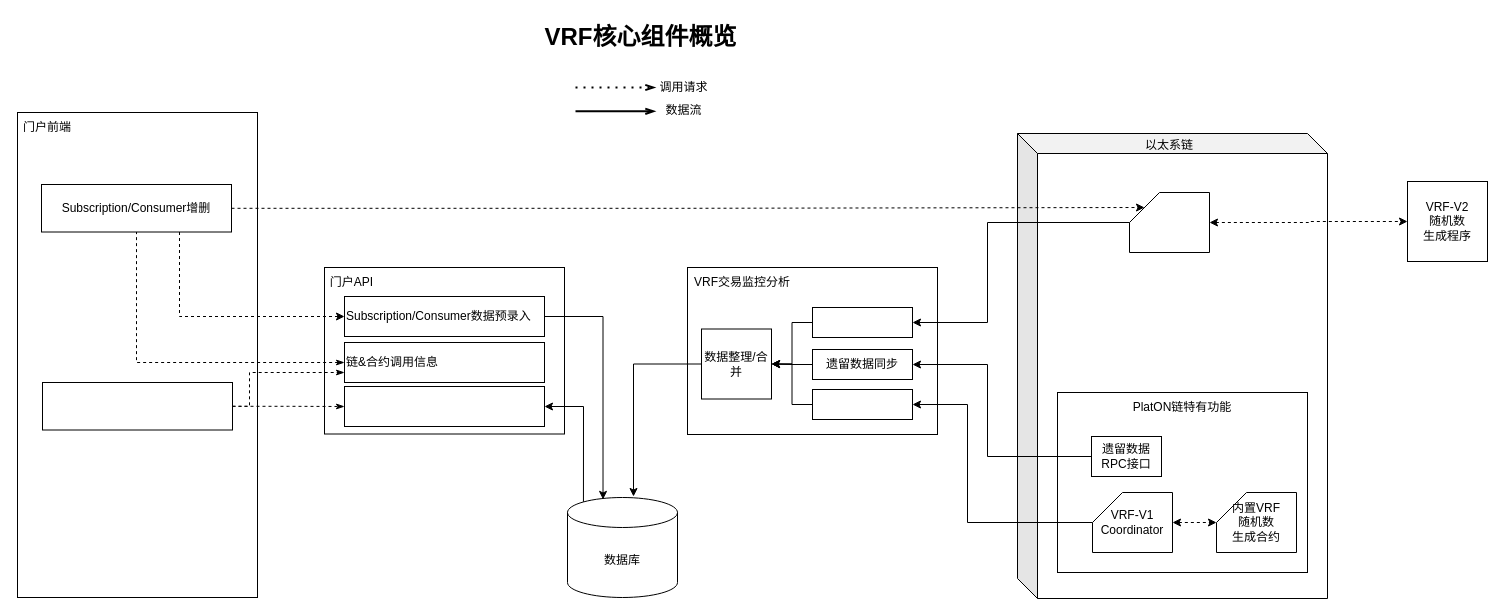
Image size: 1505x616. Some labels were removed from this diagram. The shapes that lost their labels are listed below. From the top down, each one's box as (x1, y1, x2, y2) in pixels, then its label:
(1128, 192, 1210, 252): VRF-V2 Coordinator
(812, 306, 912, 338): V2数据同步
(42, 382, 232, 430): Subscription/Consumer查询
(344, 386, 544, 426): 数据查询&统计
(812, 388, 912, 420): V1数据同步
